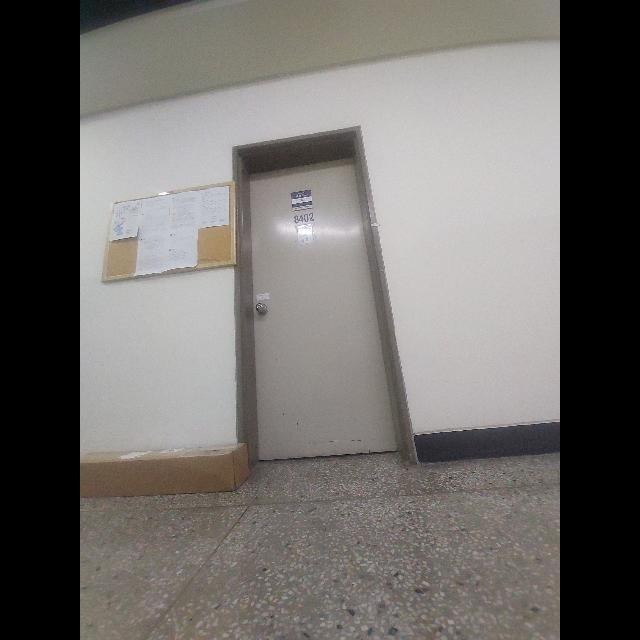door: (241, 146, 406, 462)
